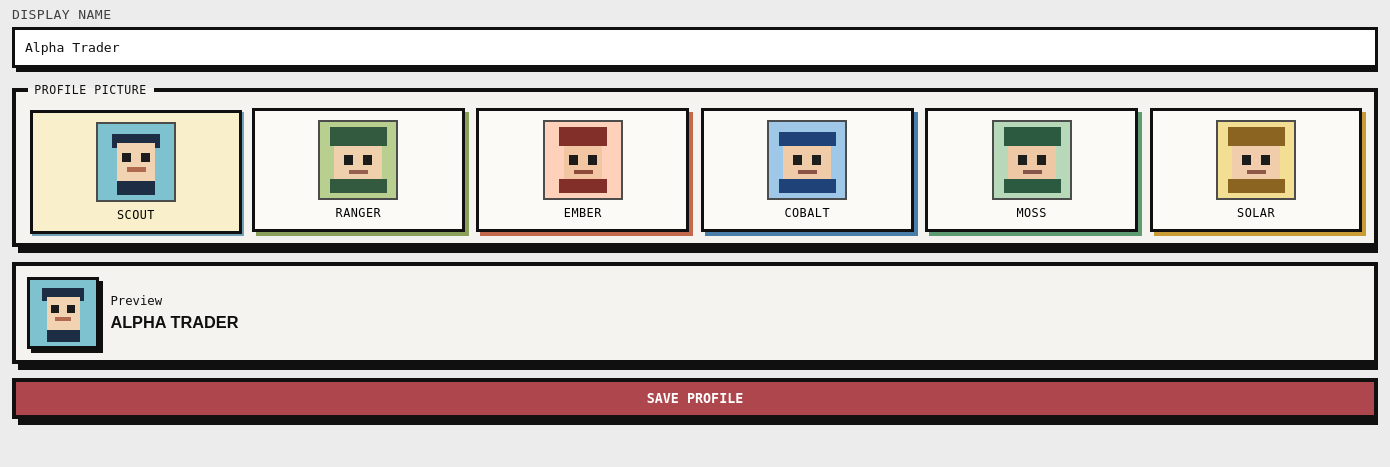
Scenario: ProfileEditor › validates short display names before saving
The width and height of the screenshot is (1390, 467).
Replace the text in the field labelled "Display name" with "A" at coordinates (695, 48), box [12, 27, 1378, 68]
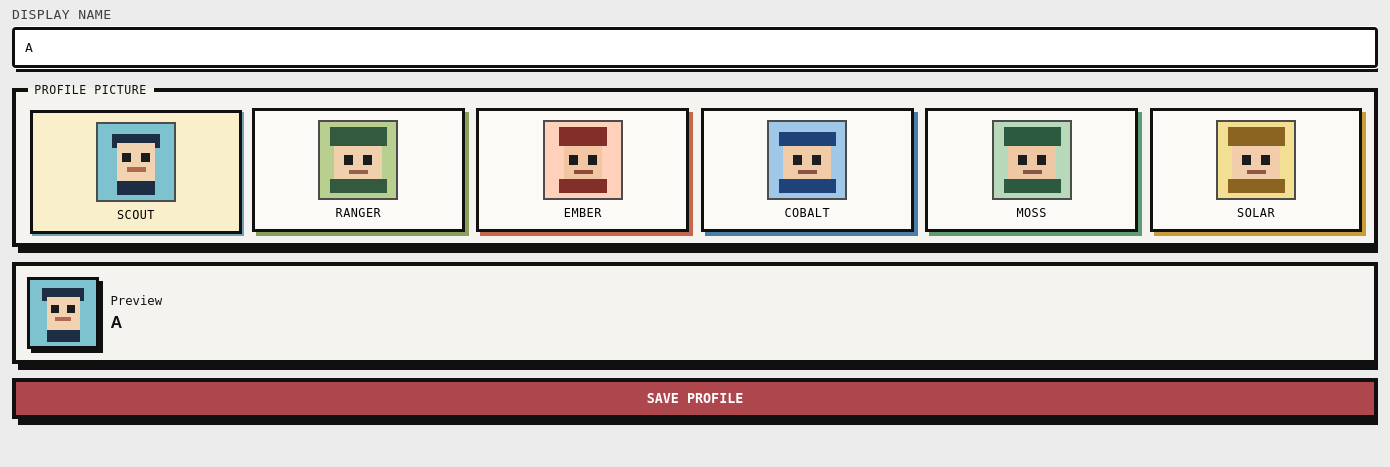
Click the button "Save profile".
click(695, 399)  # box [12, 378, 1378, 419]
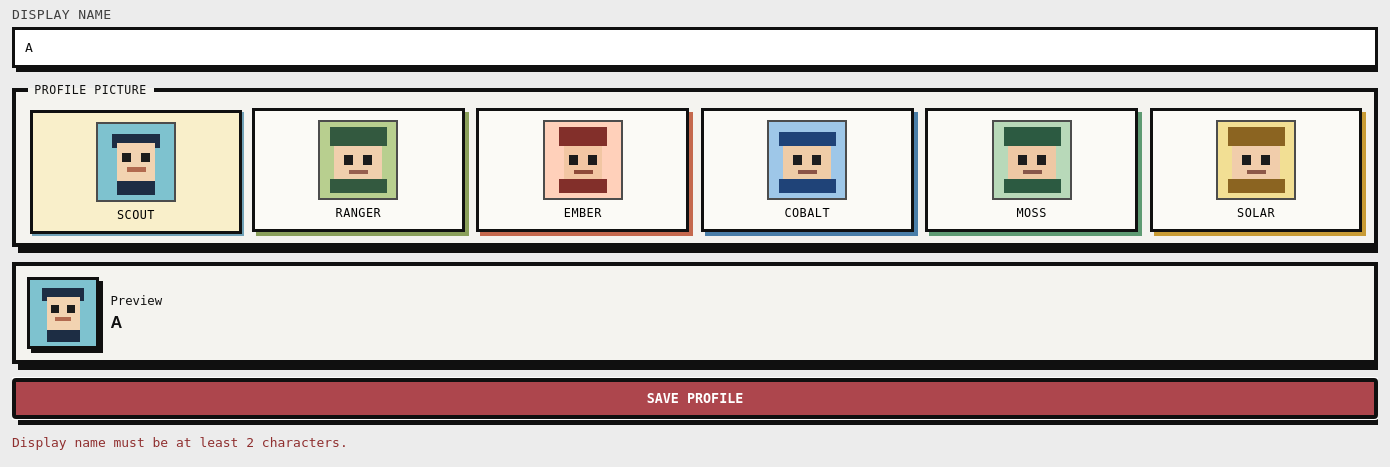
Now the text "Display name must be at least 2 characters." is shown, box [12, 435, 348, 450]
